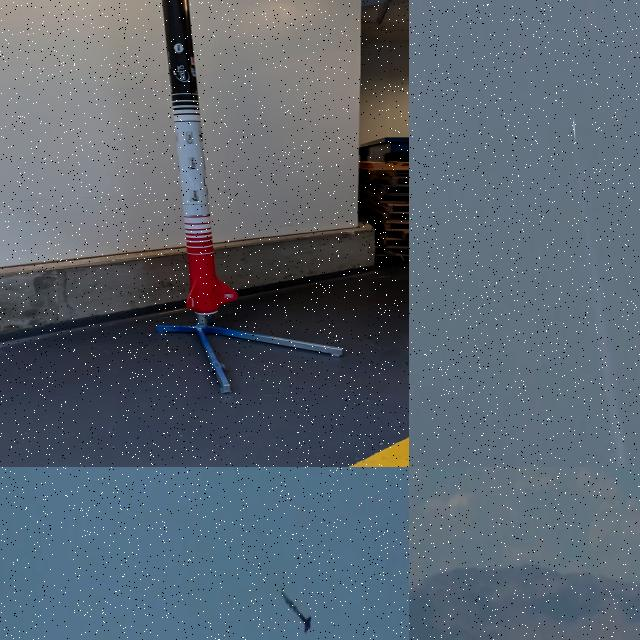Rocket: (161, 0, 238, 315), (276, 585, 314, 631), (572, 116, 576, 140)
